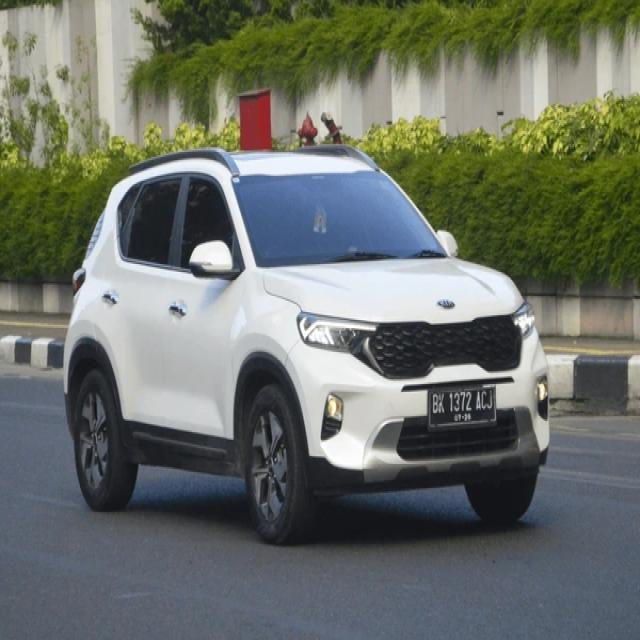kia: (430, 294, 460, 317)
